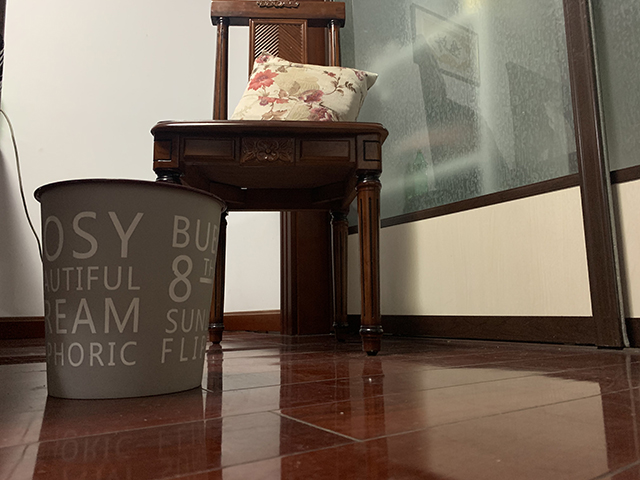stool: (150, 1, 391, 358)
trashcan: (33, 177, 230, 401)
